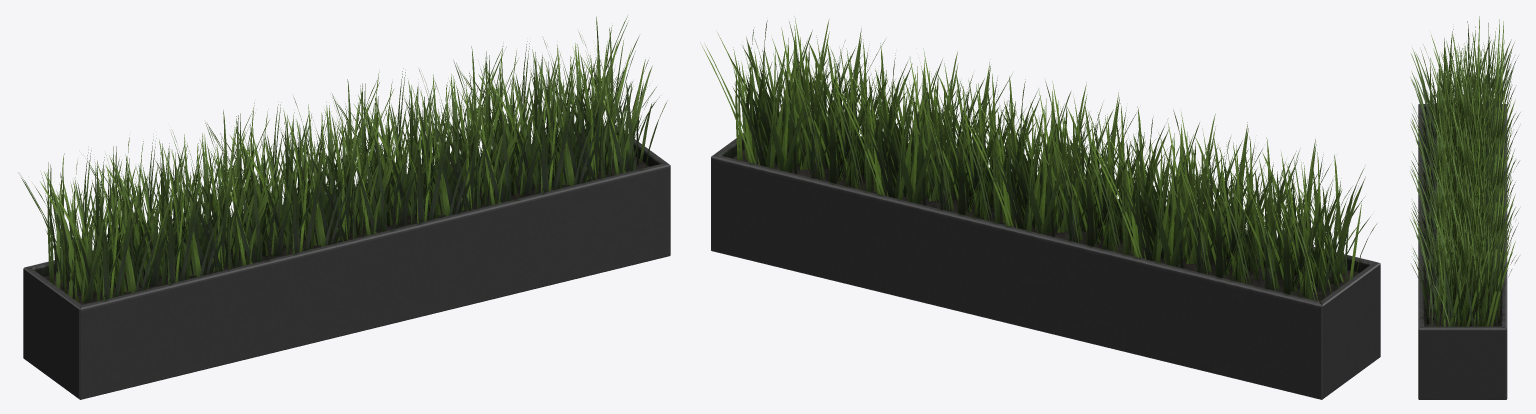
3 views of the same model, side by side, from view 1: azimuth 30°, elevation 25°; view 2: azimuth 150°, elevation 25°; view 3: azimuth 270°, elevation 25° (orthographic). The views are drawn at different scales.
Parts seen in each view (by area): view 1: glass_001, solid_001, solid_002; view 2: glass_001, solid_001, solid_002; view 3: glass_001, solid_001, solid_002.
Boxes of the visible parts, x1=… form: glass_001: x1=19, y1=16, x2=667, y2=303; solid_001: x1=23, y1=125, x2=670, y2=399; solid_002: x1=44, y1=145, x2=649, y2=305; glass_001: x1=700, y1=16, x2=1376, y2=301; solid_001: x1=711, y1=120, x2=1380, y2=399; solid_002: x1=732, y1=138, x2=1359, y2=301; glass_001: x1=1410, y1=16, x2=1520, y2=326; solid_001: x1=1418, y1=104, x2=1507, y2=399; solid_002: x1=1424, y1=114, x2=1501, y2=326.
Size of the model in its own units: 1.93 by 0.6488 by 0.3909.
Materials: 1 (1 with a texture image).
